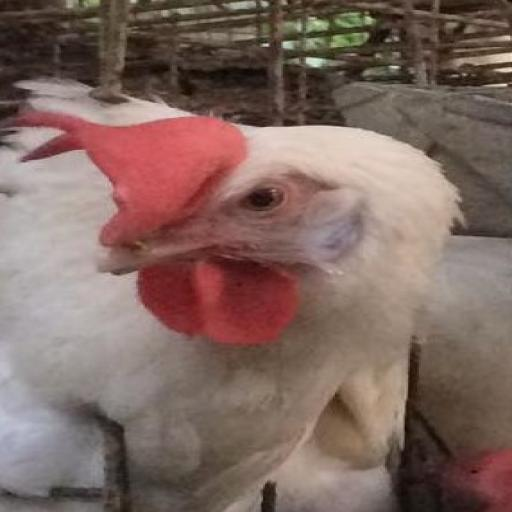healthy: (70, 107, 356, 304)
